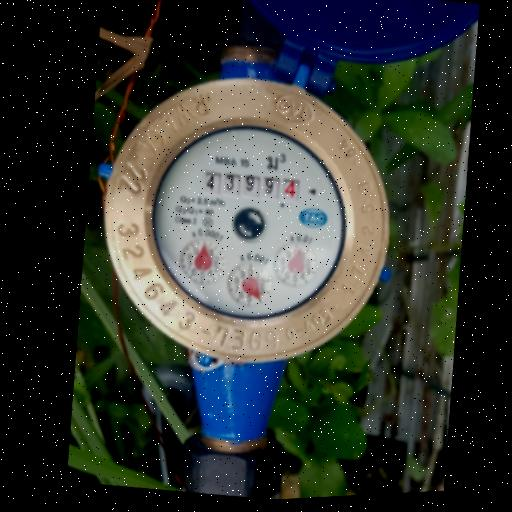3: (223, 173, 241, 195)
4: (205, 170, 222, 194), (282, 180, 299, 203)
9: (243, 173, 262, 198), (263, 178, 281, 200)
border_water_meter_number: (198, 161, 307, 212)
